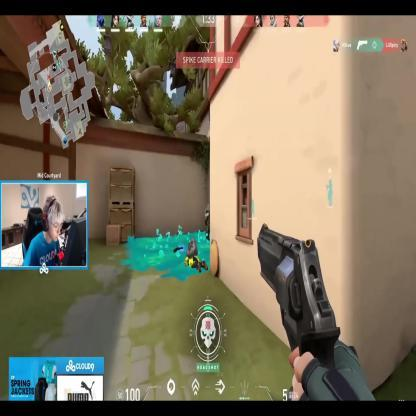enemy: (204, 203, 214, 240)
enemy_head: (207, 204, 211, 212)
